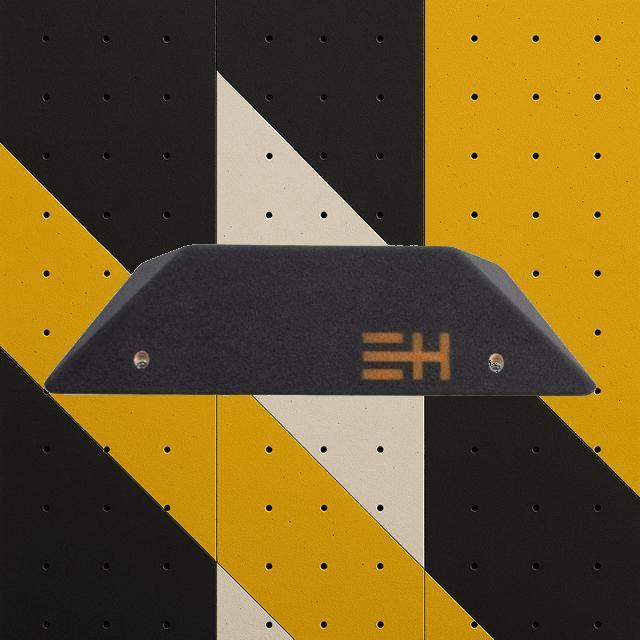Volume: (44, 242, 596, 396)
